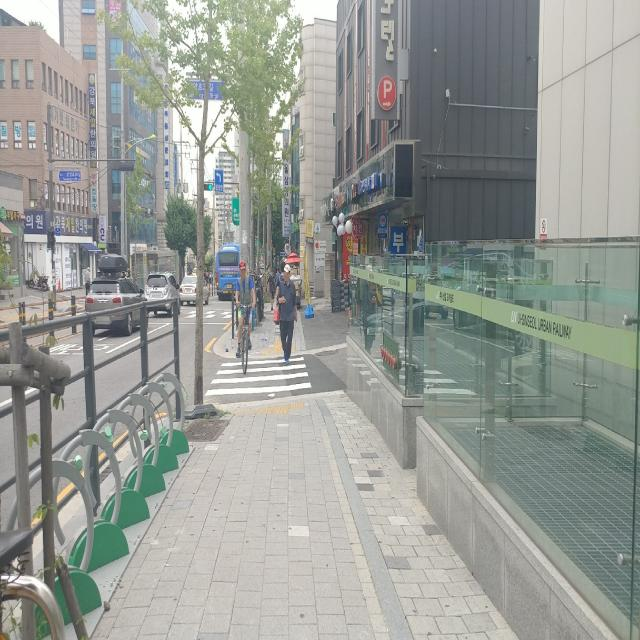횡단보도: (202, 356, 312, 398)
